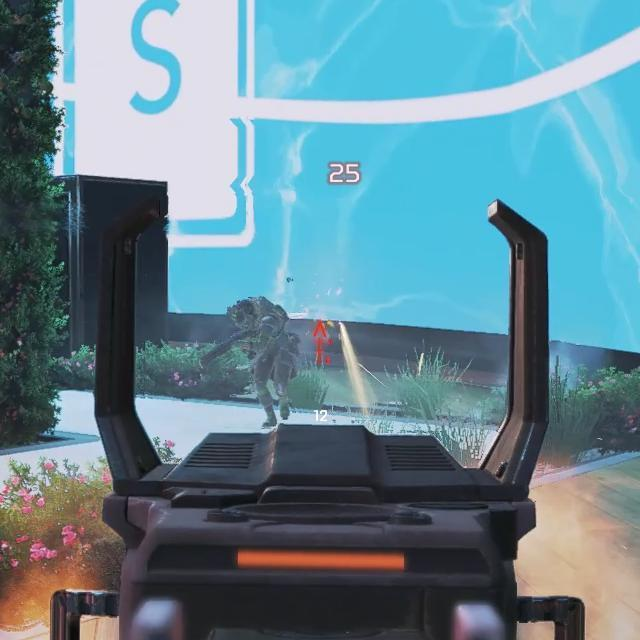avatar: (226, 297, 297, 428)
